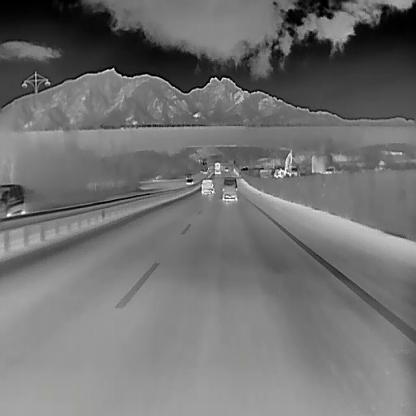car: (0, 183, 25, 218), (221, 177, 238, 201), (200, 178, 215, 195), (213, 162, 222, 175), (185, 177, 193, 186), (223, 166, 228, 172), (186, 173, 191, 179), (203, 170, 207, 174), (200, 168, 203, 172)
